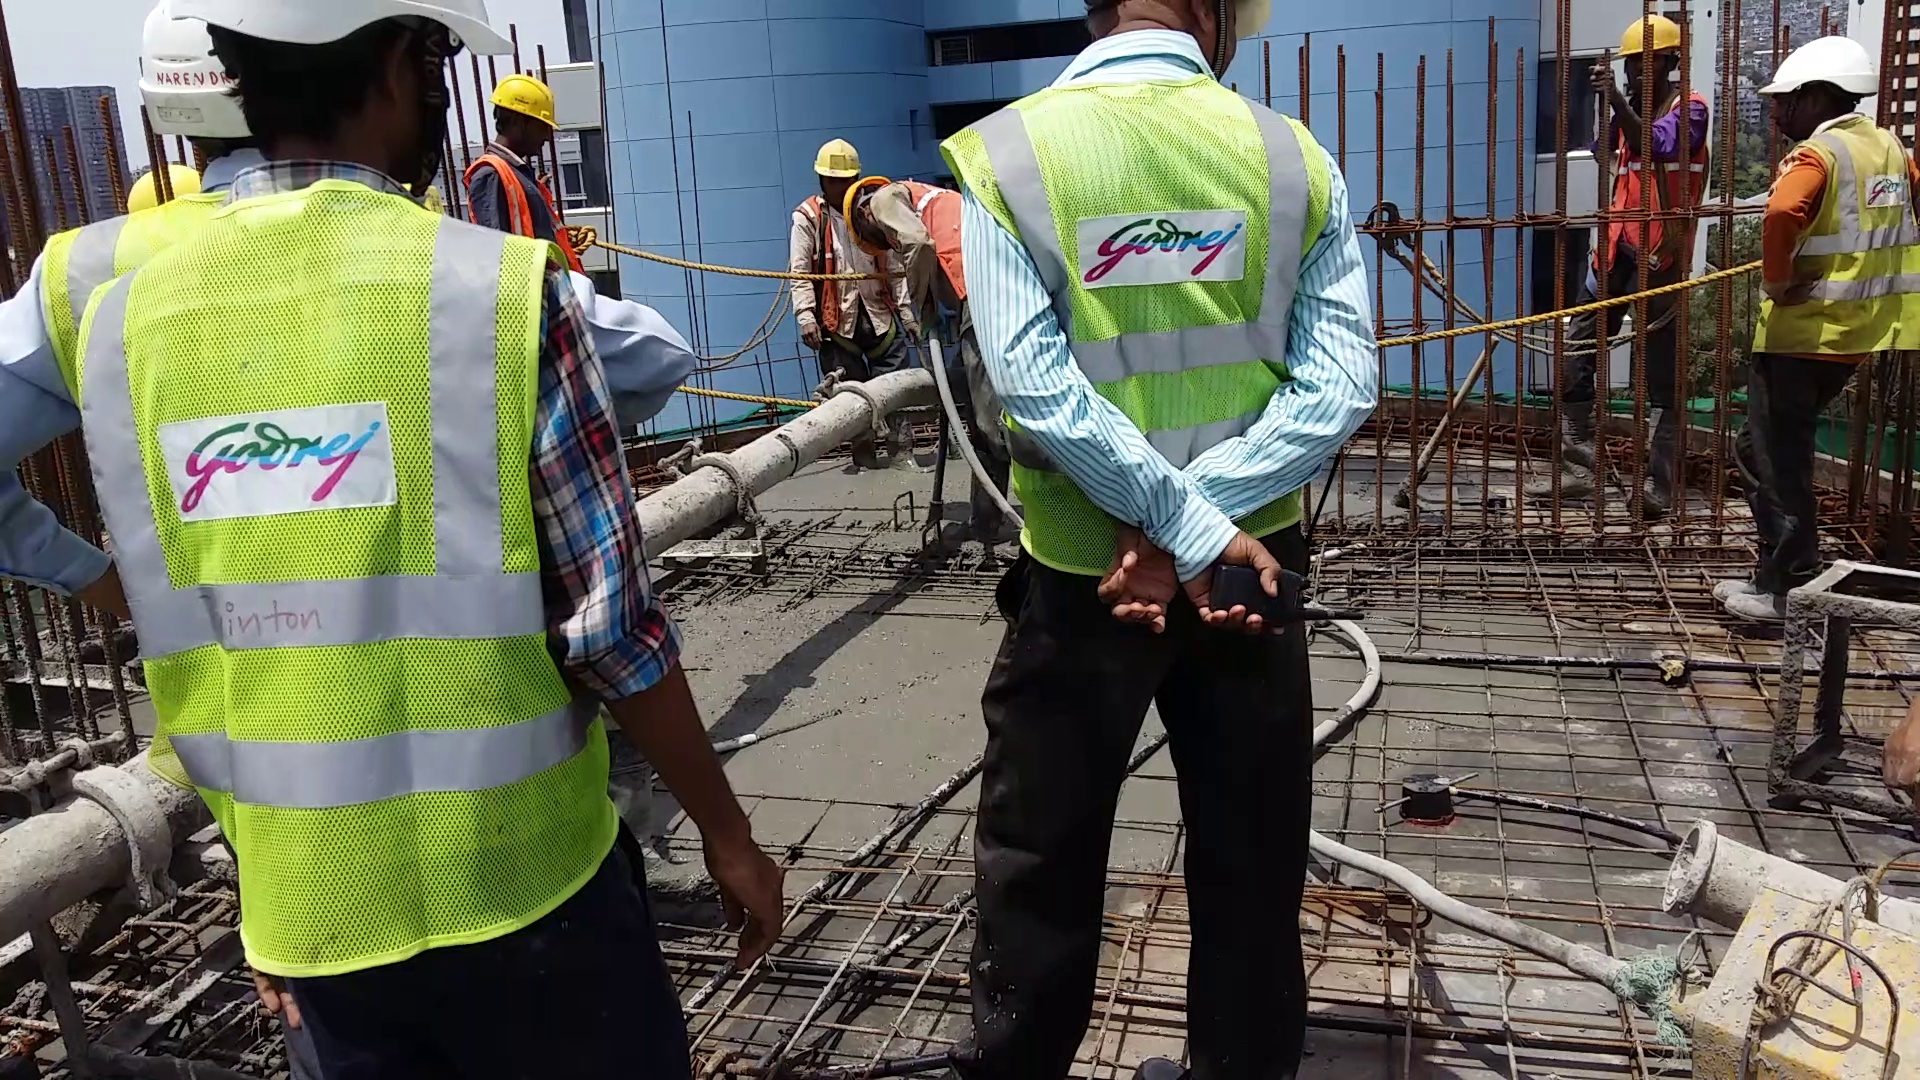SAFE: (123, 1, 537, 963), (1745, 38, 1920, 361), (847, 167, 963, 330), (795, 131, 843, 349)
